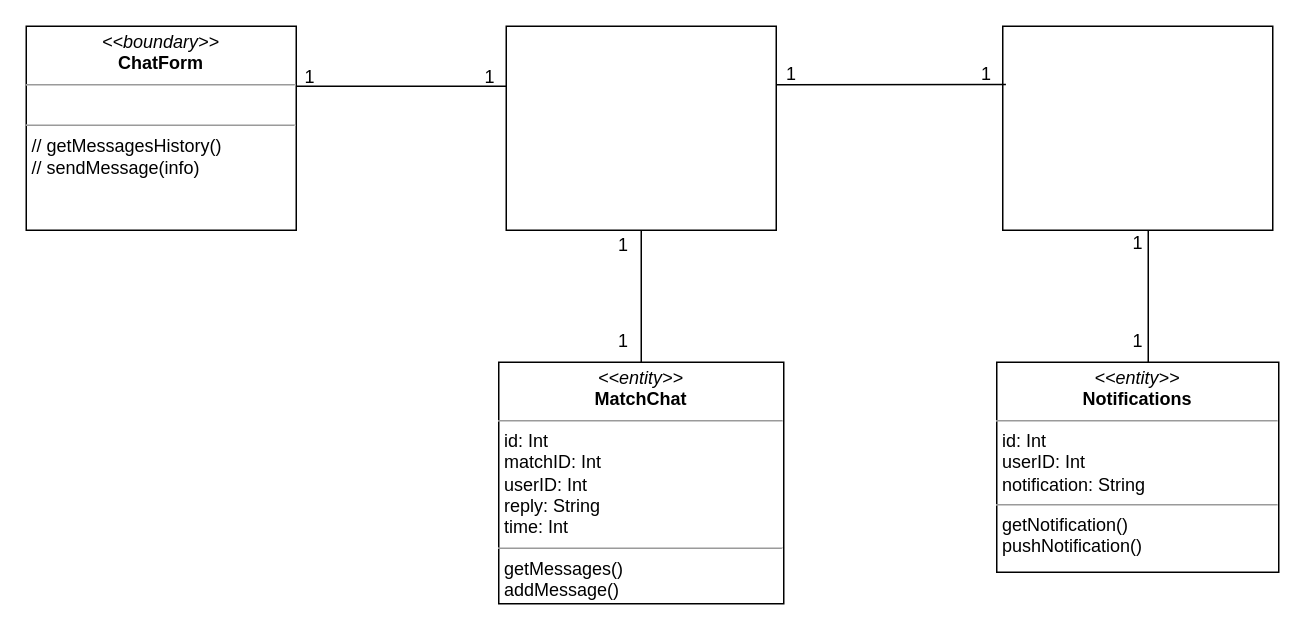
The diagram is 1305 pixels wide and 630 high, and some of its shapes have lost their labels. The centre of each missing label's shape, as x and y in pixels:
"<<control>> ChatController // addMessage(info) // addNotification(info)" belongs at pixel 640 127.
"<<control>> ChatController // pushNotification(info)" belongs at pixel 1137 127.
